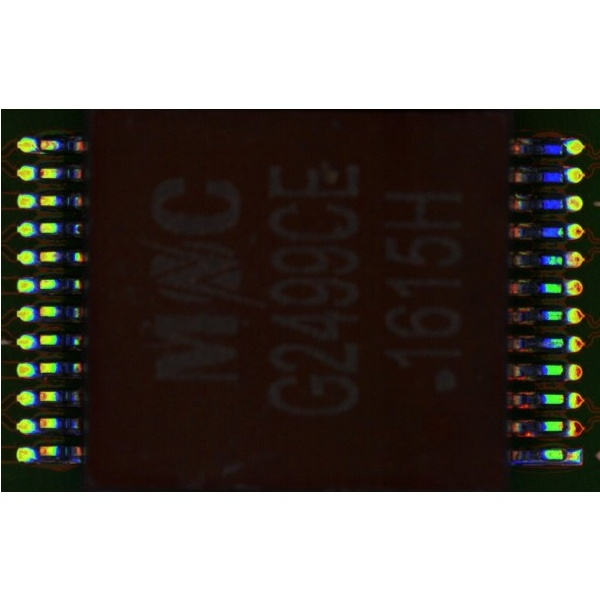Bad_podu: (557, 450, 571, 460)
